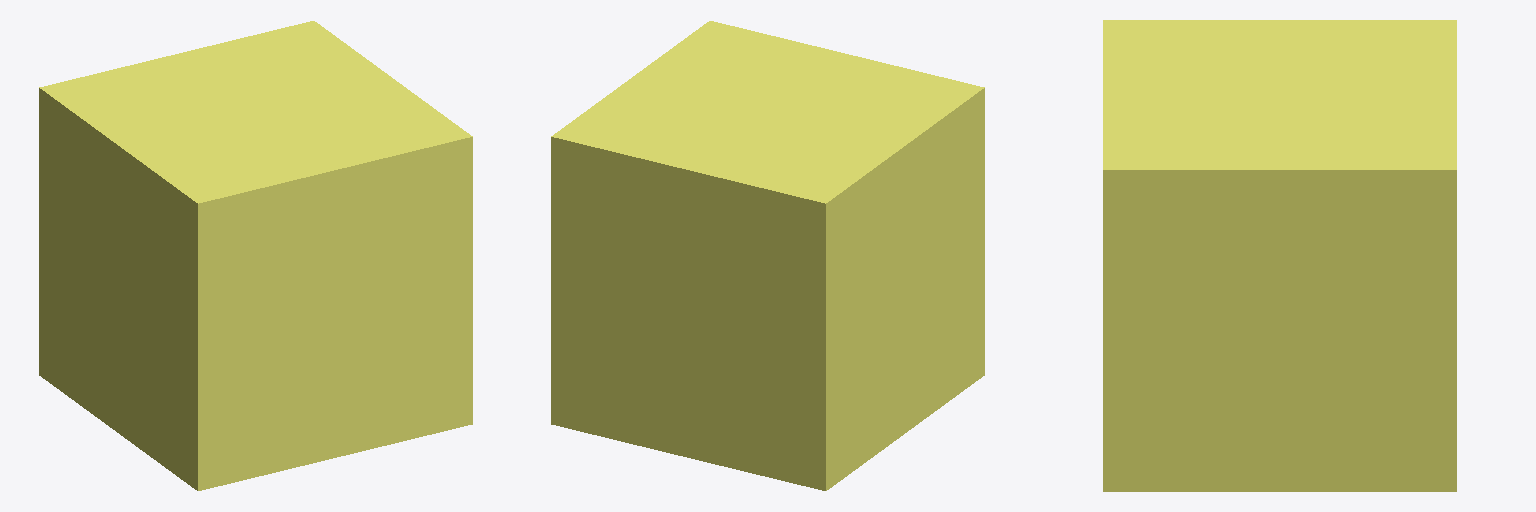
URDF robot description (box36_light01.urdf):
<?xml version="1.0" ?>
<robot name="box36_light01.urdf">
  <dynamics damping="0.5" friction="0.9"/>
  <link name="baseLink">
    <inertial>
      <!-- sim2sim mass probe: 0.1 kg (real box is 811 g).
           Solid-cube inertia I = m*a^2/6, a = 0.36 m -->
      <mass value="0.1"/>
      <origin xyz="0 0 0"/>
      <inertia ixx="0.00216" ixy="0" ixz="0" iyy="0.00216" iyz="0" izz="0.00216"/>
    </inertial>
    <contact>
      <lateral_friction value="0.9"/>
      <rolling_friction value="0.5"/>
      <stiffness value="30000"/>
      <damping value="1000"/>
    </contact>
    <visual>
      <origin rpy="0 0 0" xyz="0 0 0"/>
      <geometry>
        <mesh filename="box36.obj" scale="1.0 1.0 1.0"/>
      </geometry>
       <material name="mat">
        <color rgba="0.95 0.95 0.5 1"/>
      </material>
    </visual>
    <collision>
      <origin rpy="0 0 0" xyz="0 0 0"/>
      <geometry>
        <mesh filename="box36.obj" scale="1.0 1.0 1.0"/>
      </geometry>
    </collision>
  </link>
</robot>

--- Render facts (derived) ---
3 views of the same robot in one strip: view 1: azimuth 30°, elevation 25°; view 2: azimuth 150°, elevation 25°; view 3: azimuth 270°, elevation 25° (orthographic).
Model box36_light01.urdf with 1 links and 0 joints (none), rooted at baseLink, posed every joint at zero.
Links seen in each view (by area): view 1: baseLink; view 2: baseLink; view 3: baseLink.
Boxes of the visible links, <box> form: baseLink: <box>39,21,472,490</box>; baseLink: <box>551,21,984,490</box>; baseLink: <box>1103,20,1456,491</box>.
Bounding box of the posed robot: 0.36 × 0.36 × 0.36 m (x, y, z).
1 mesh visuals loaded from 1 distinct referenced files (1 OBJ).
